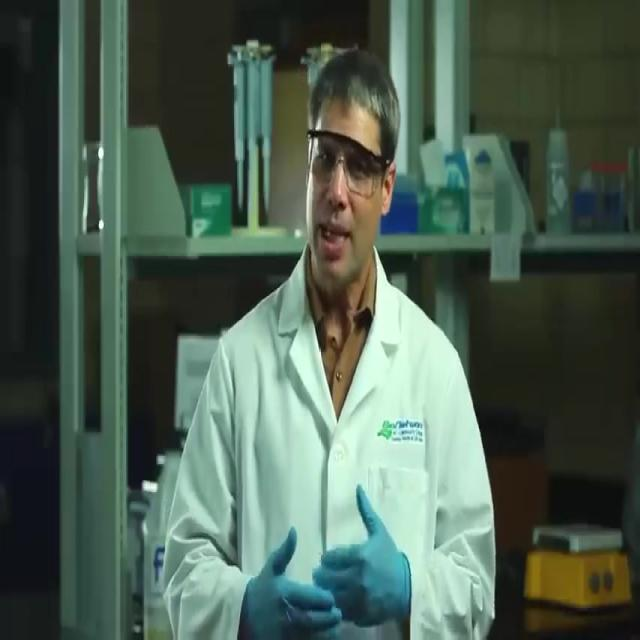googles: (309, 128, 378, 197)
labcoat: (164, 243, 496, 640)
